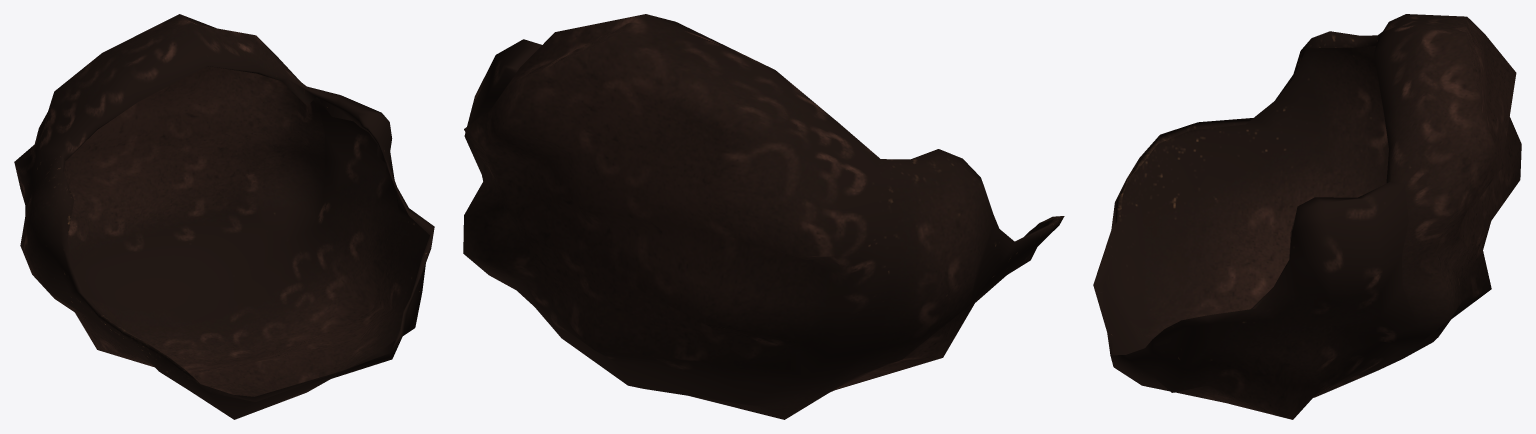
File: hair_z_head_zeroed3.dae
The picture shows the model from 3 angles, left to right: view 1: azimuth 30°, elevation 25°; view 2: azimuth 150°, elevation 25°; view 3: azimuth 270°, elevation 25°; orthographic projection. The views are drawn at different scales.
Visible parts, largest first — view 1: hair; view 2: hair; view 3: hair.
Boxes of the visible parts, x1,y1,x2,y2 form: hair: (14, 14, 434, 419); hair: (463, 14, 1064, 419); hair: (1093, 14, 1521, 419).
Size of the model in its own units: 3.52 by 2.81 by 3.1.
